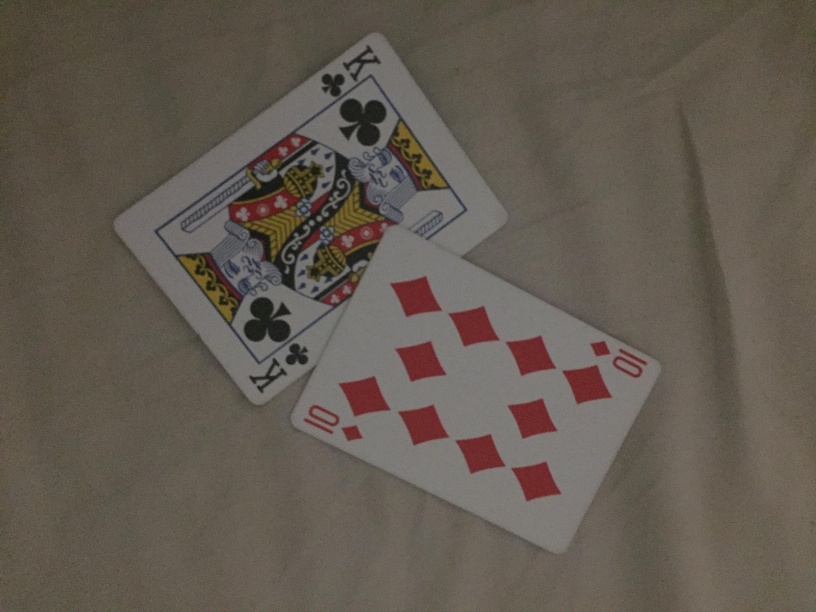10: (289, 220, 662, 557)
king: (90, 37, 512, 405)
